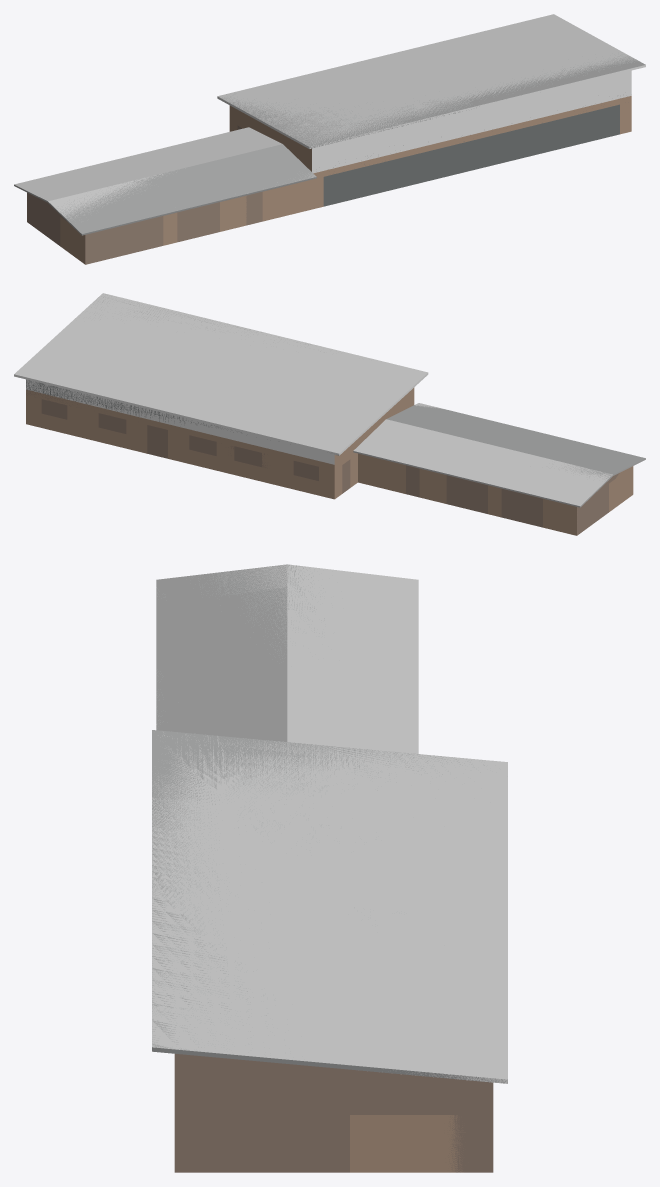
Rendered from sports_complex1.dae.
3 views of the same model, one above another, from view 1: azimuth 30°, elevation 25°; view 2: azimuth 150°, elevation 25°; view 3: azimuth 270°, elevation 25° (orthographic). The views are drawn at different scales.
Visible parts, largest first — view 1: sports_complex1_a300, sports_complex1_a100; view 2: sports_complex1_a300, sports_complex1_a100; view 3: sports_complex1_a300, sports_complex1_a100.
Part boxes in pixels (box(x1,y1,x2,y2)): sports_complex1_a300: box(14, 14, 645, 264); sports_complex1_a100: box(27, 55, 645, 264); sports_complex1_a300: box(14, 293, 645, 535); sports_complex1_a100: box(26, 294, 645, 535); sports_complex1_a300: box(152, 564, 507, 1172); sports_complex1_a100: box(152, 564, 507, 1172).
Bounding box in the file's own units: 39.47 × 11.18 × 4.62.
